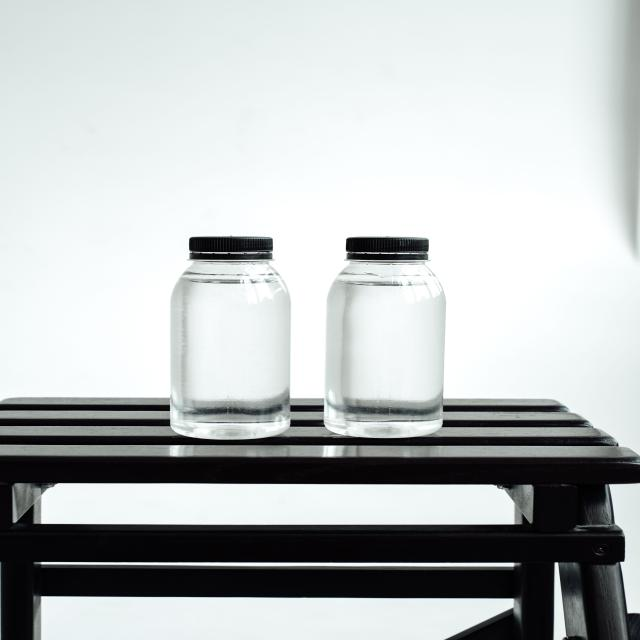Bottle: (171, 237, 290, 439), (325, 237, 445, 437)
